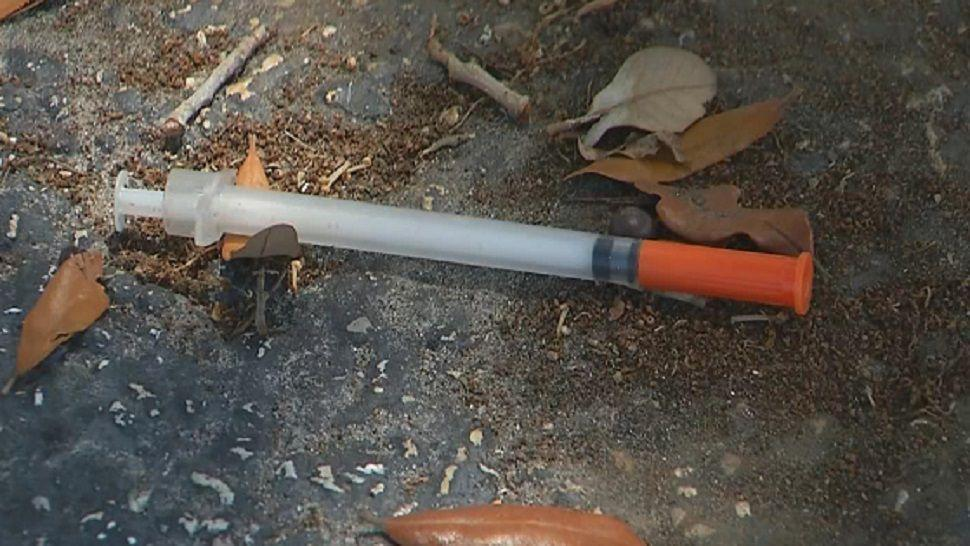Syringe: (115, 169, 812, 313)
